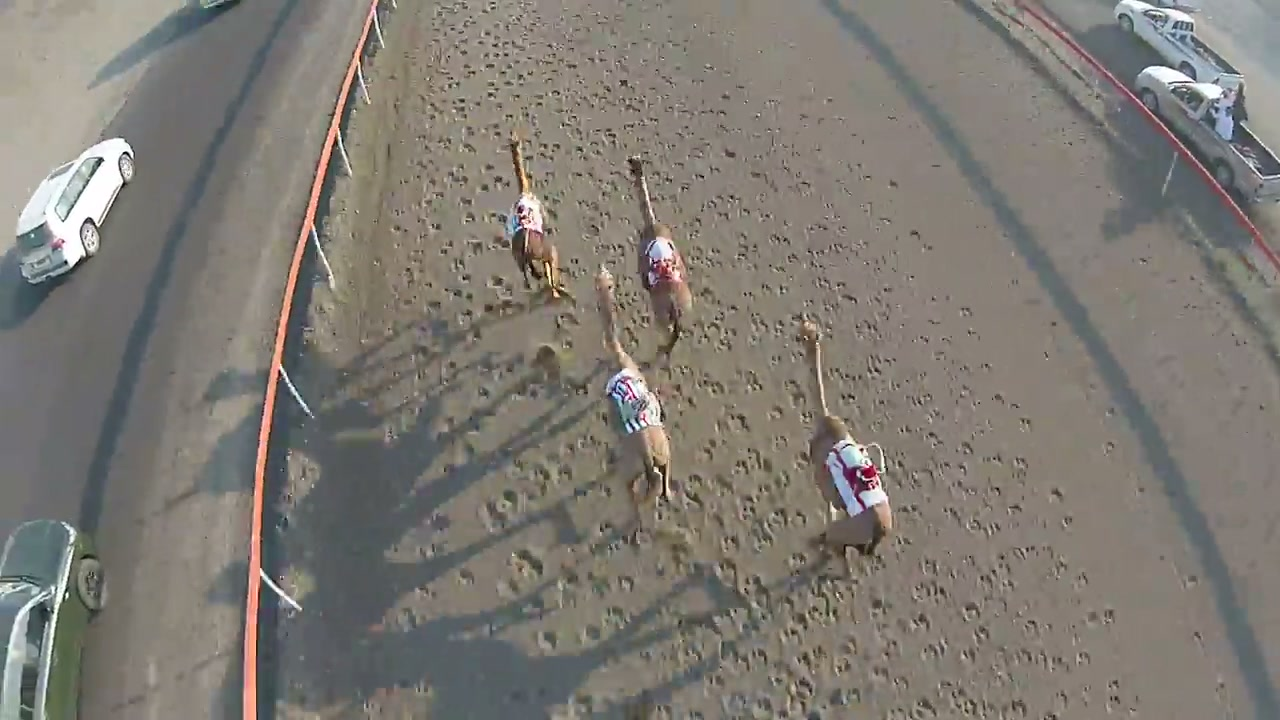animal_foot_print: (646, 95, 1117, 718), (542, 38, 888, 709), (422, 15, 624, 689)
